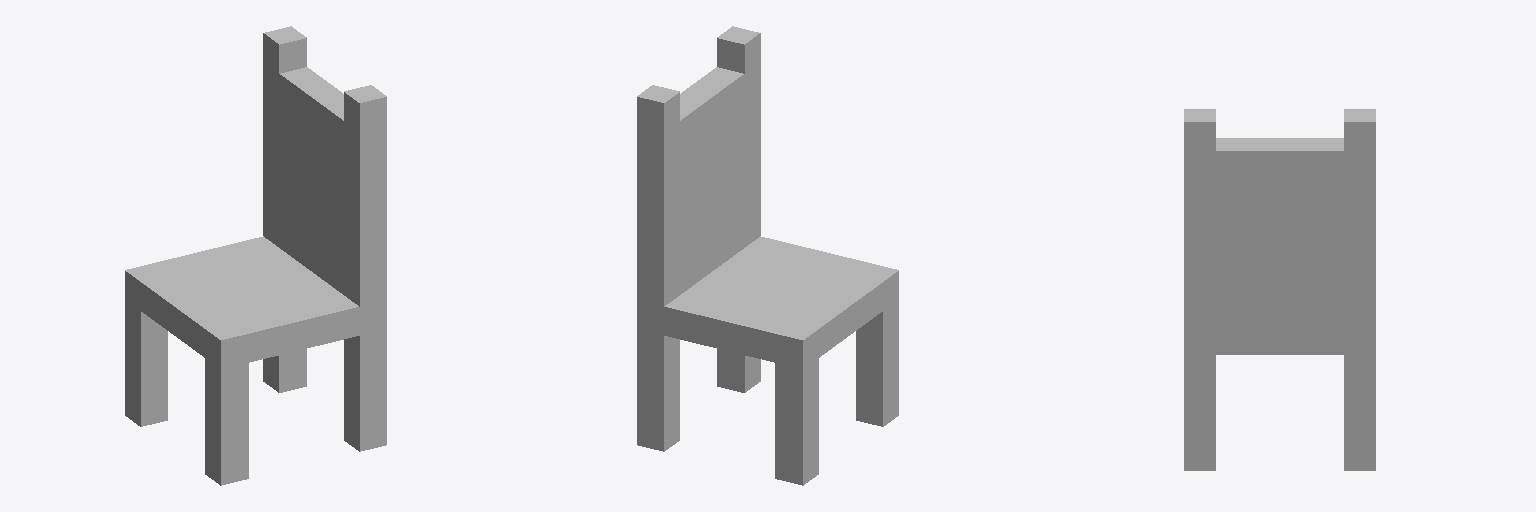
The model's file is escenario (1)-10.obj.
3 views of the same model, side by side, from view 1: azimuth 30°, elevation 25°; view 2: azimuth 150°, elevation 25°; view 3: azimuth 270°, elevation 25° (orthographic).
Parts seen in each view (by area): view 1: object 1; view 2: object 1; view 3: object 1.
Boxes of the visible parts, x1,y1,x2,y2 form: object 1: [125, 26, 386, 485]; object 1: [637, 26, 898, 485]; object 1: [1184, 109, 1375, 470].
Bounding box in the file's own units: 0.6 × 1.2 × 0.6.